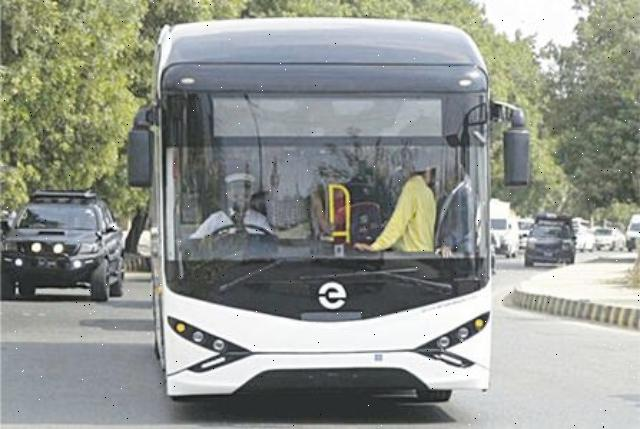Bus: (141, 13, 532, 425)
